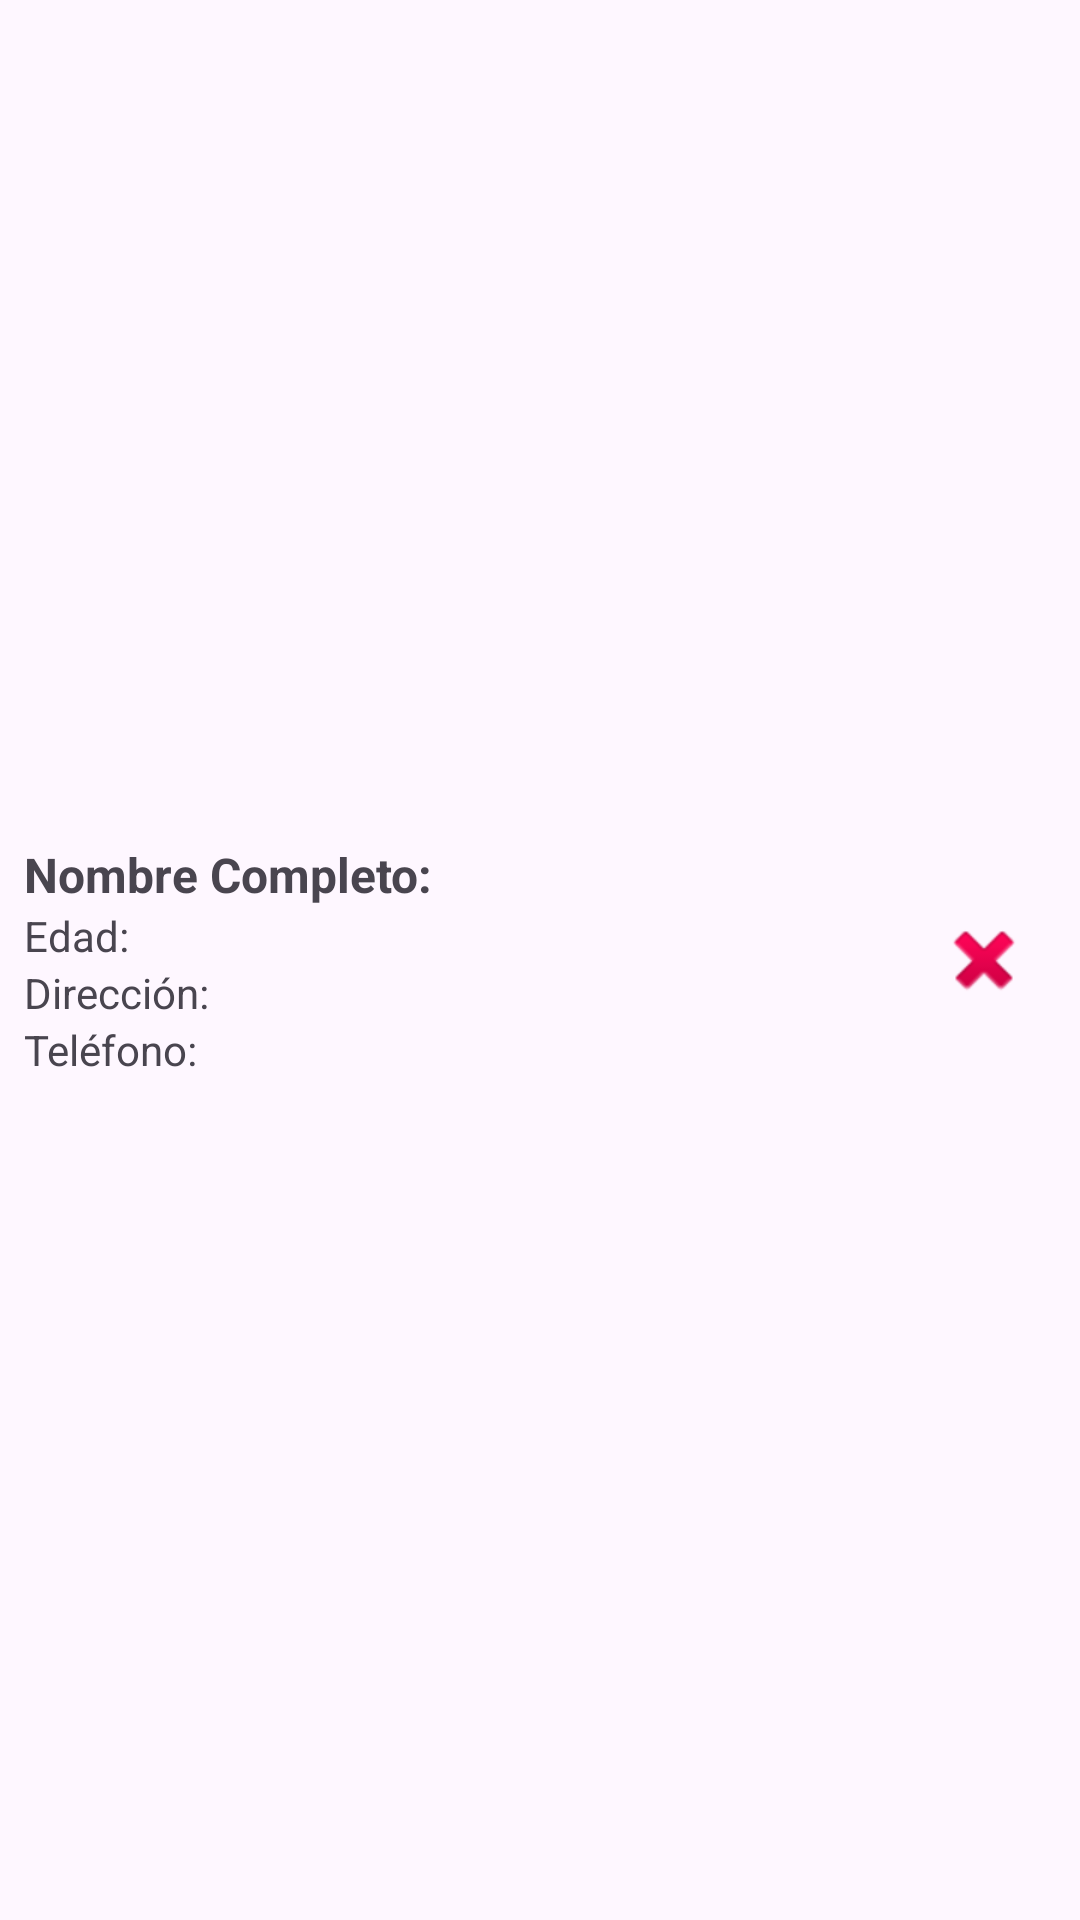

Named icons in this screenshot (1080w x 1920h) and their centers, [x,y]:
Eliminar estudiante: [984,960]
